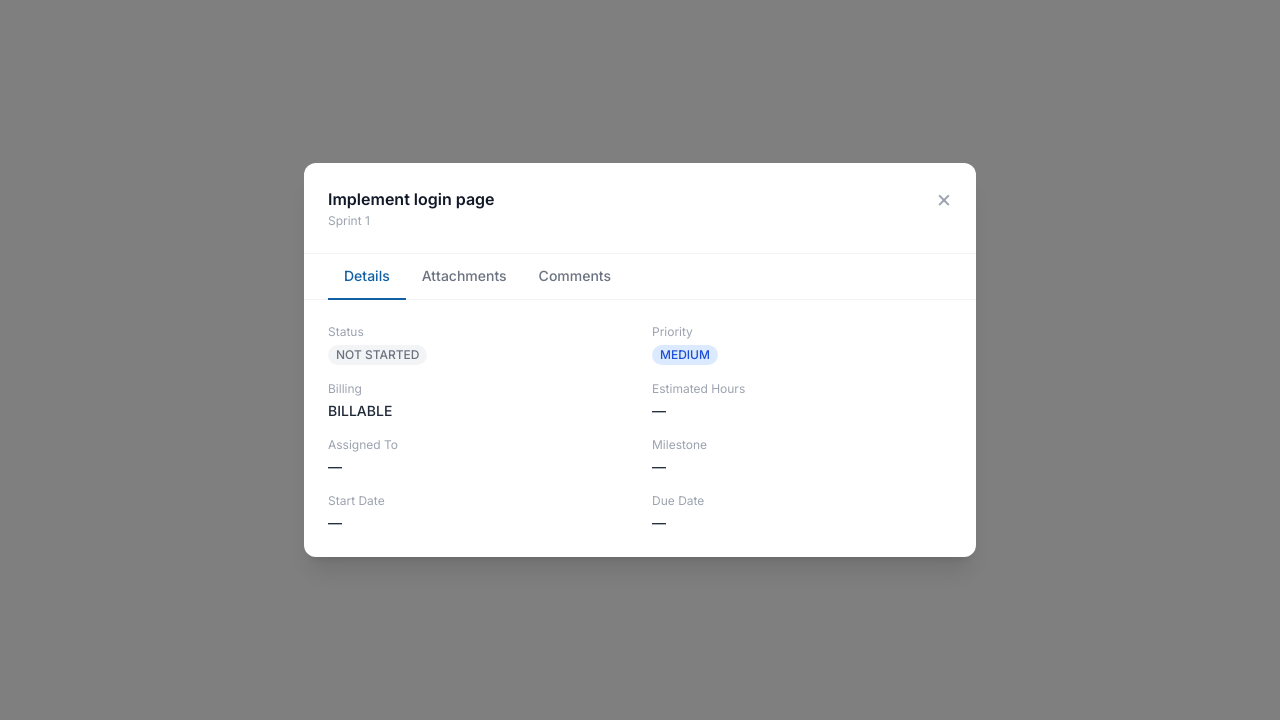
Test: TaskDetail_AttachmentsTab_ShowsAttachmentsList
Click the button "attachments".
click(464, 277)  # box x1=406 y1=254 x2=523 y2=300
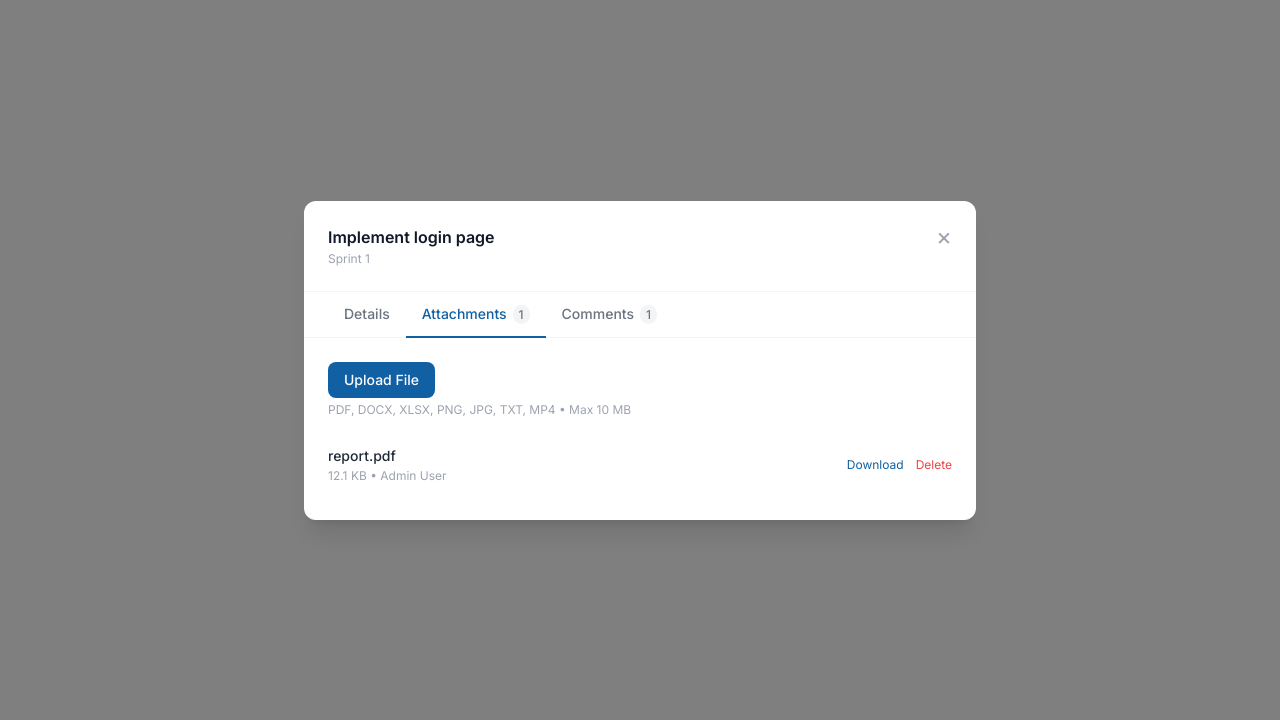
expect the text "report.pdf" is shown: met, box x1=328 y1=446 x2=396 y2=464
